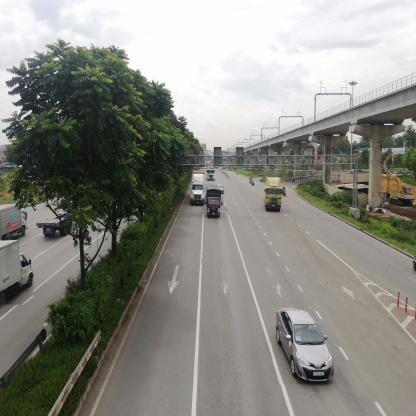car: (273, 306, 335, 386)
container: (191, 169, 206, 207), (267, 176, 282, 214)
motorbike: (252, 179, 257, 188), (283, 188, 287, 197), (249, 179, 253, 185)
truck: (1, 238, 35, 306), (2, 203, 30, 242), (208, 188, 222, 219), (207, 169, 215, 181)
